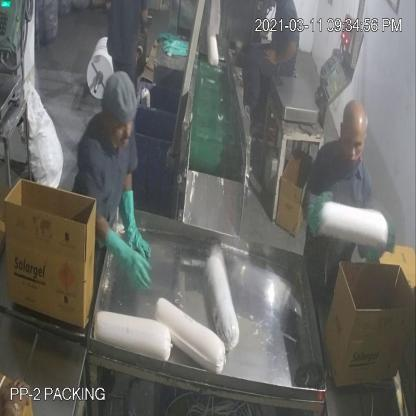glove: (115, 184, 157, 262), (106, 224, 152, 291)
no_glove: (262, 32, 306, 77)
